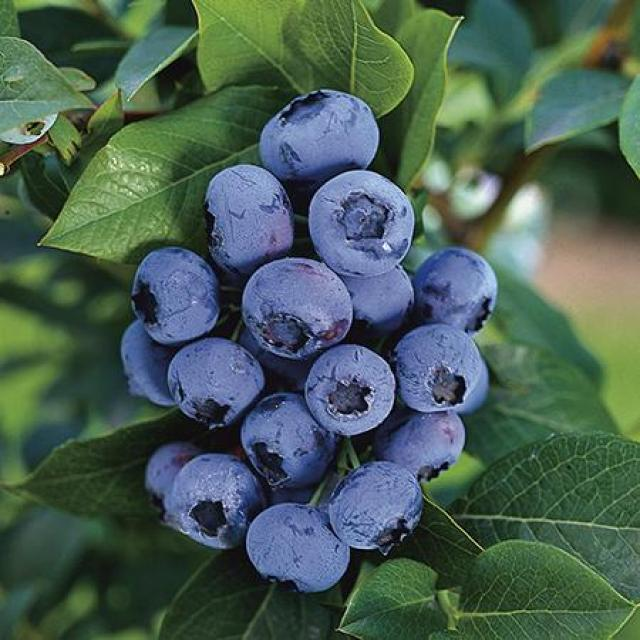BlueBerry - v1: (250, 81, 383, 193), (237, 253, 360, 364), (303, 167, 422, 280), (160, 445, 274, 558), (318, 449, 432, 562), (237, 498, 357, 602), (198, 157, 297, 280), (162, 330, 269, 435), (122, 242, 226, 348), (235, 386, 340, 490), (299, 337, 401, 438), (387, 313, 486, 417), (407, 242, 502, 344), (367, 397, 475, 486), (110, 314, 190, 418), (330, 262, 421, 342), (138, 440, 210, 519)
